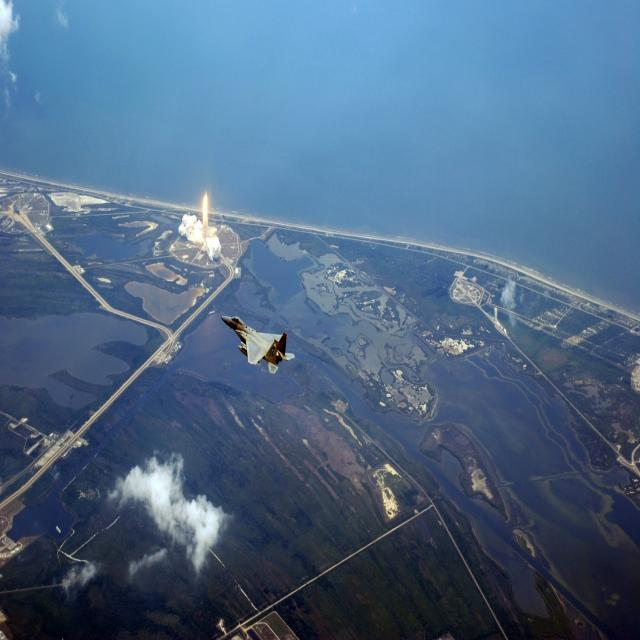MIL_Plane: (220, 316, 295, 374)
